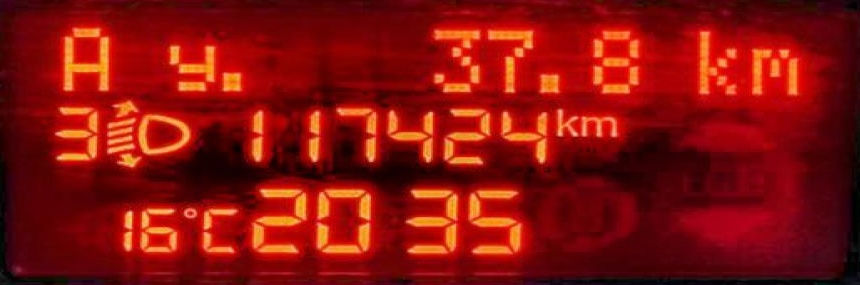-: (534, 70, 563, 95), (217, 68, 245, 93)
0: (312, 187, 374, 256)
1: (304, 105, 322, 164), (247, 105, 265, 164), (120, 208, 133, 253)
2: (249, 185, 309, 254), (442, 106, 491, 167)
3: (403, 185, 458, 254), (429, 27, 481, 93), (55, 104, 98, 161)
4: (496, 108, 546, 164), (386, 105, 433, 164)
6: (138, 205, 177, 254)
7: (484, 25, 534, 93), (332, 102, 379, 166)
8: (588, 27, 641, 98)
X: (692, 26, 742, 102), (58, 23, 112, 93), (741, 42, 800, 97), (167, 41, 214, 91), (200, 205, 235, 253), (579, 113, 618, 137), (554, 106, 578, 137)
